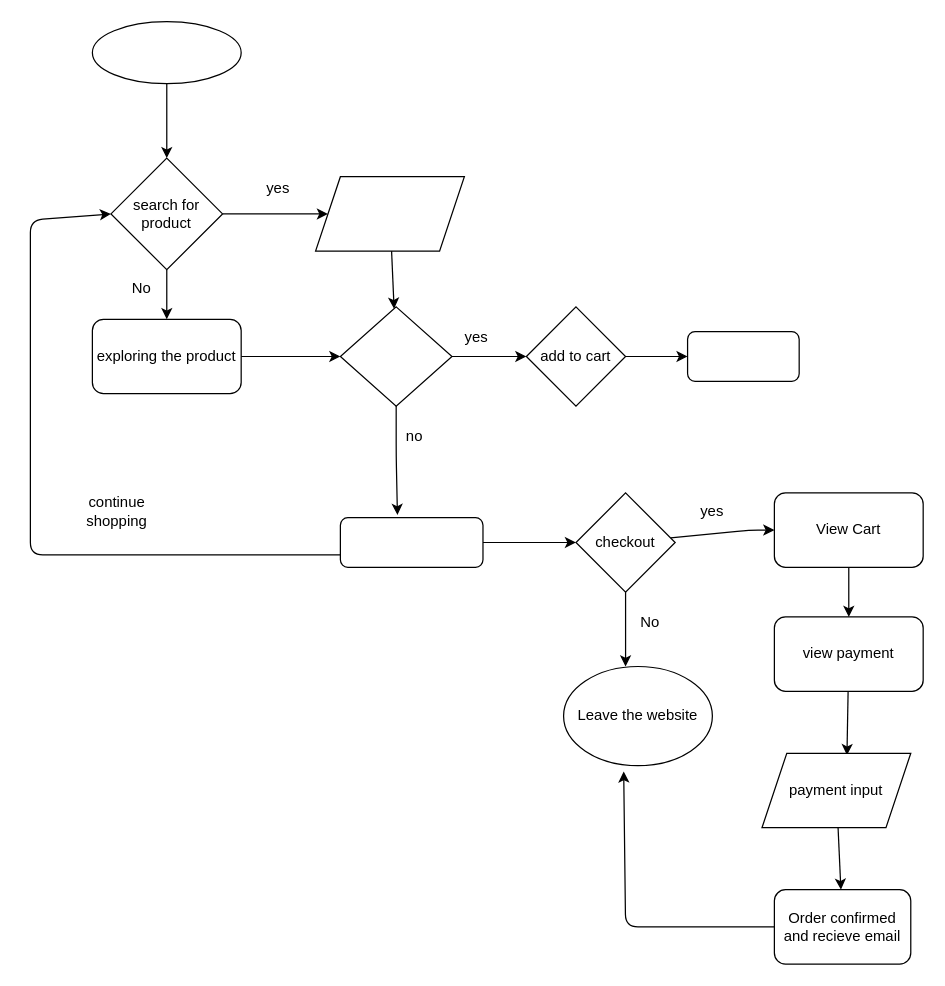
Image size: 945x986. Some labels were removed from this diagram. Each missing label, with the box of its shape:
cart confirm: (686, 330, 799, 381)
entering the website: (91, 20, 241, 84)
product webpage: (339, 516, 483, 567)
provide input: (314, 175, 464, 251)
view specific product: (339, 306, 452, 406)
